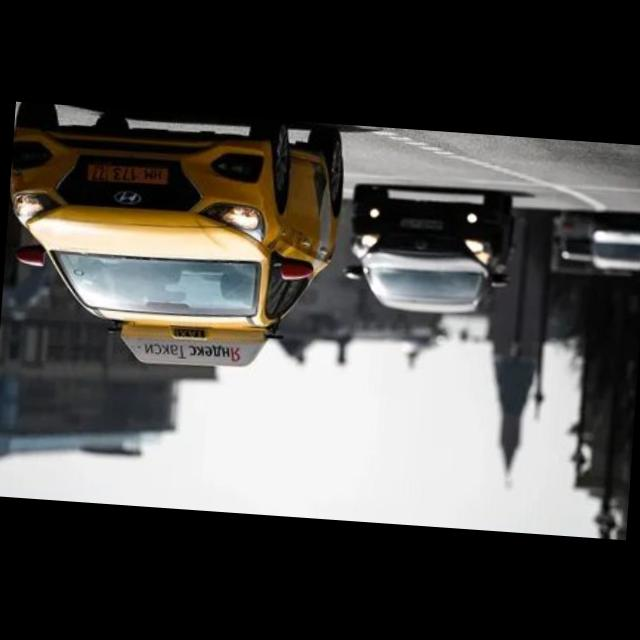taxi: (1, 101, 349, 379)
